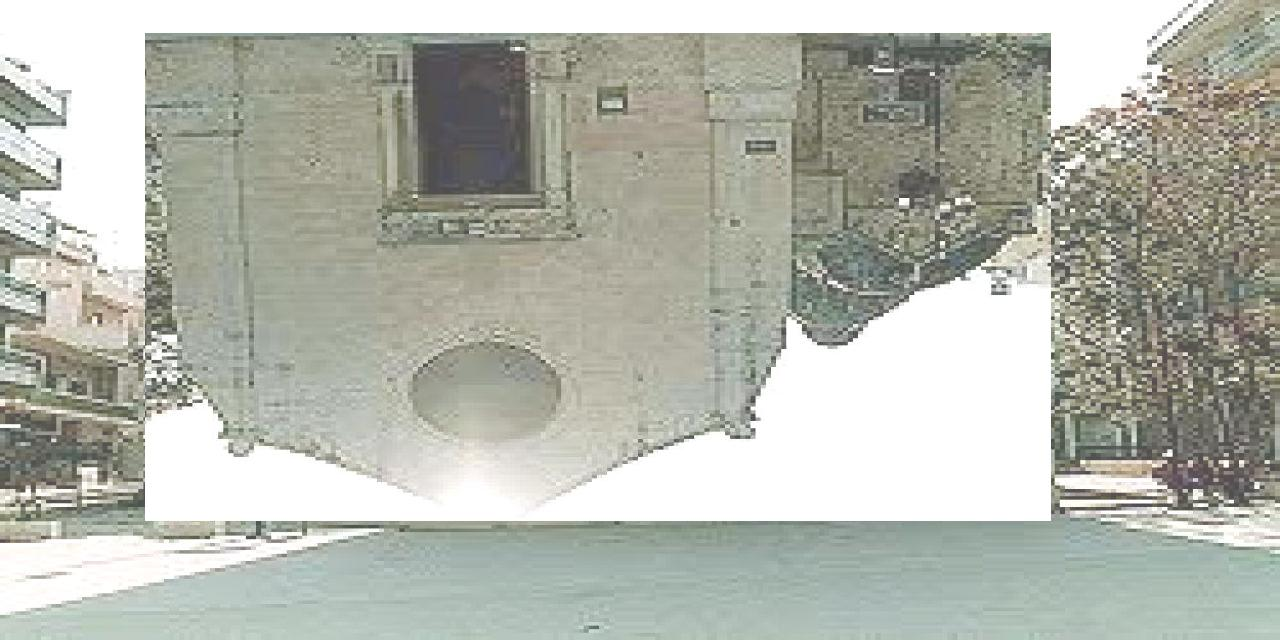Agia Aikaterini: (146, 34, 1052, 522)
